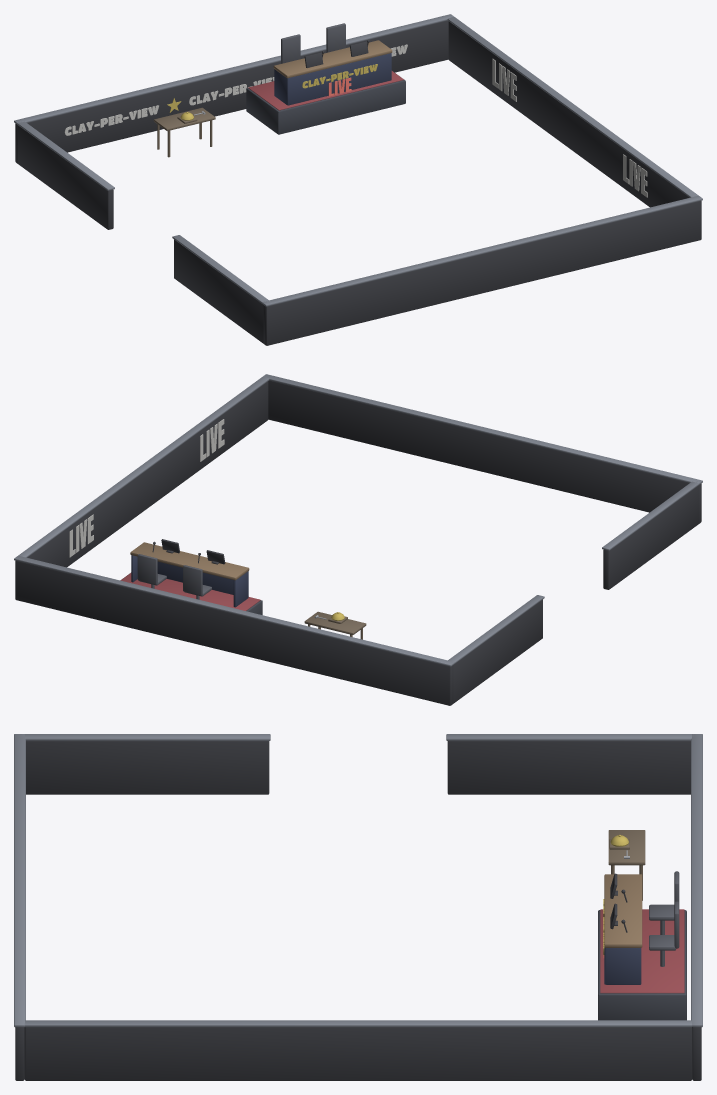
Rendered from SM_Ringside.glb.
3 renders of one model, top to bottom at view 1: azimuth 30°, elevation 25°; view 2: azimuth 150°, elevation 25°; view 3: azimuth 270°, elevation 25°, orthographic. The views are drawn at different scales.
Visible parts, largest first — view 1: SM_Ringside; view 2: SM_Ringside; view 3: SM_Ringside.
Part boxes in pixels (x1=…): SM_Ringside: x1=14, y1=14, x2=702, y2=345; SM_Ringside: x1=14, y1=374, x2=702, y2=705; SM_Ringside: x1=14, y1=734, x2=702, y2=1080.
Size of the model in its own units: 11.6 by 1.71 by 11.6.
